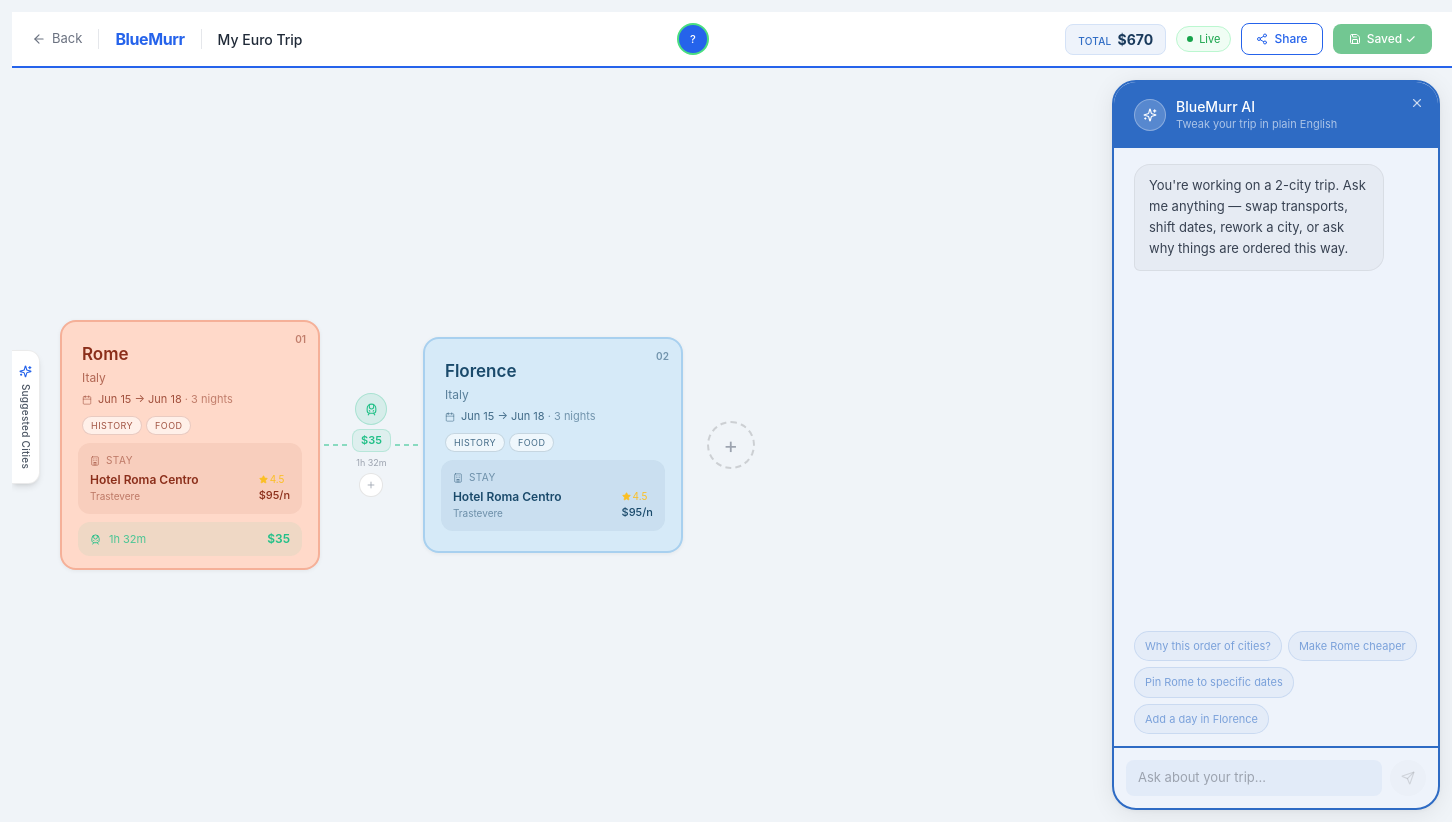
CanvasPage › live sync (Phase B) › broadcasts a local edit but never persists it silently
Note: Local edit: remove Rome via the card's context menu
Right-click the text "Rome" at coordinates (105, 354), box 82,344 -> 129,364
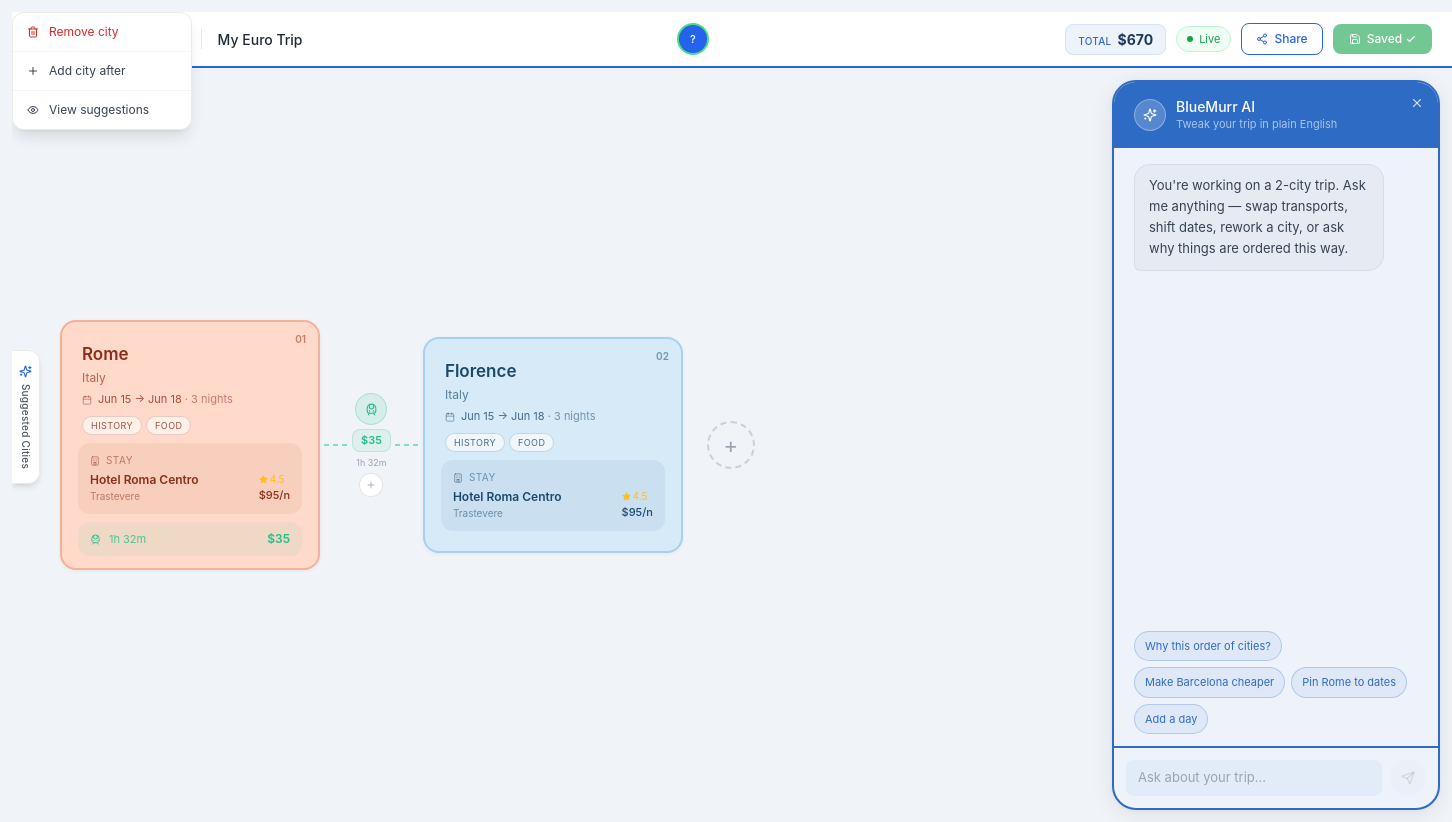
Click the button "Remove city" at coordinates (102, 32), box 13,13 -> 191,51
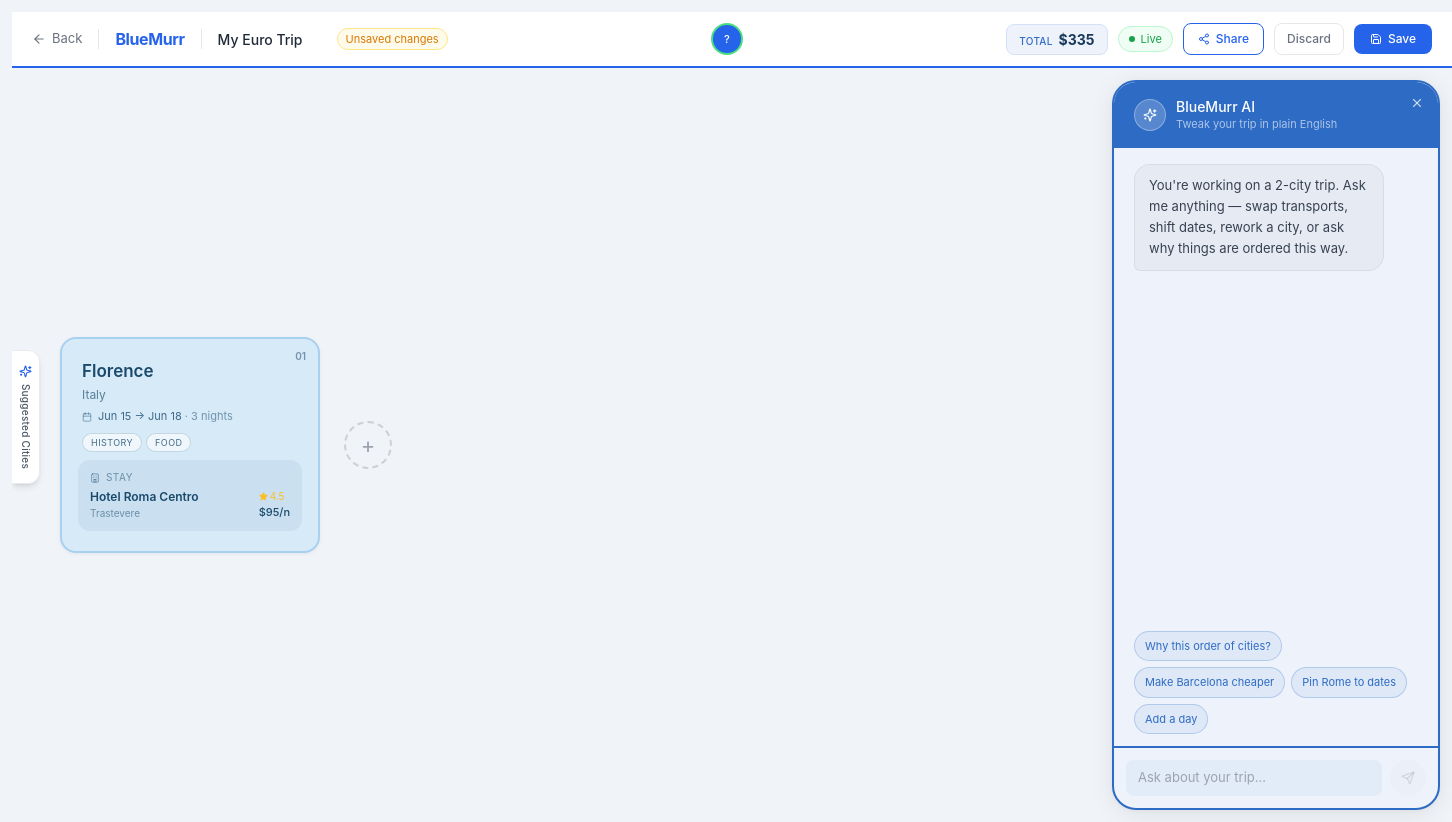
Expected: the button "Save" is shown, 1354,24 -> 1432,54
Now the button "Discard" is shown, box 1274,23 -> 1344,55
